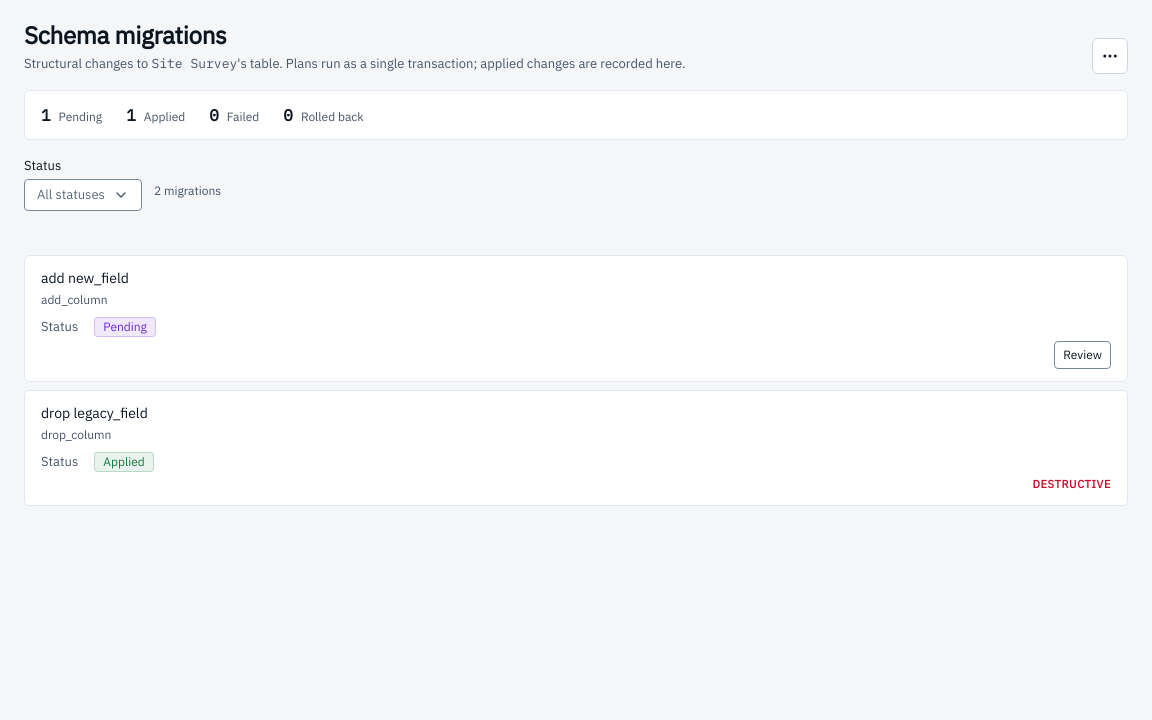
Test case: SchemaMigrationsPage — detail modal › shows the exact forward SQL for a pending plan
This screenshot has width=1152, height=720.
Check: the text "add new_field" is shown, box [41,269,129,287]
Click the button "Review": (1083, 355) [1054,341,1111,369]
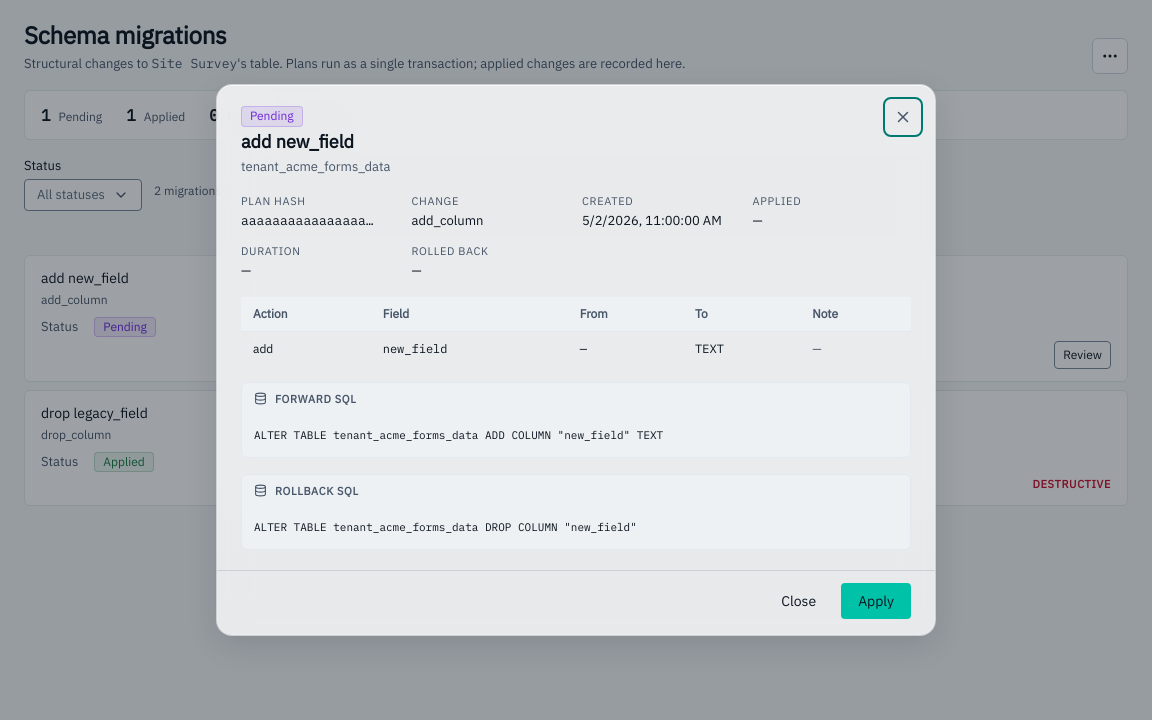
Check: the text "ALTER TABLE tenant_acme_forms_data ADD COLUMN \"new_field\" TEXT" is shown, box [242,415,910,457]
